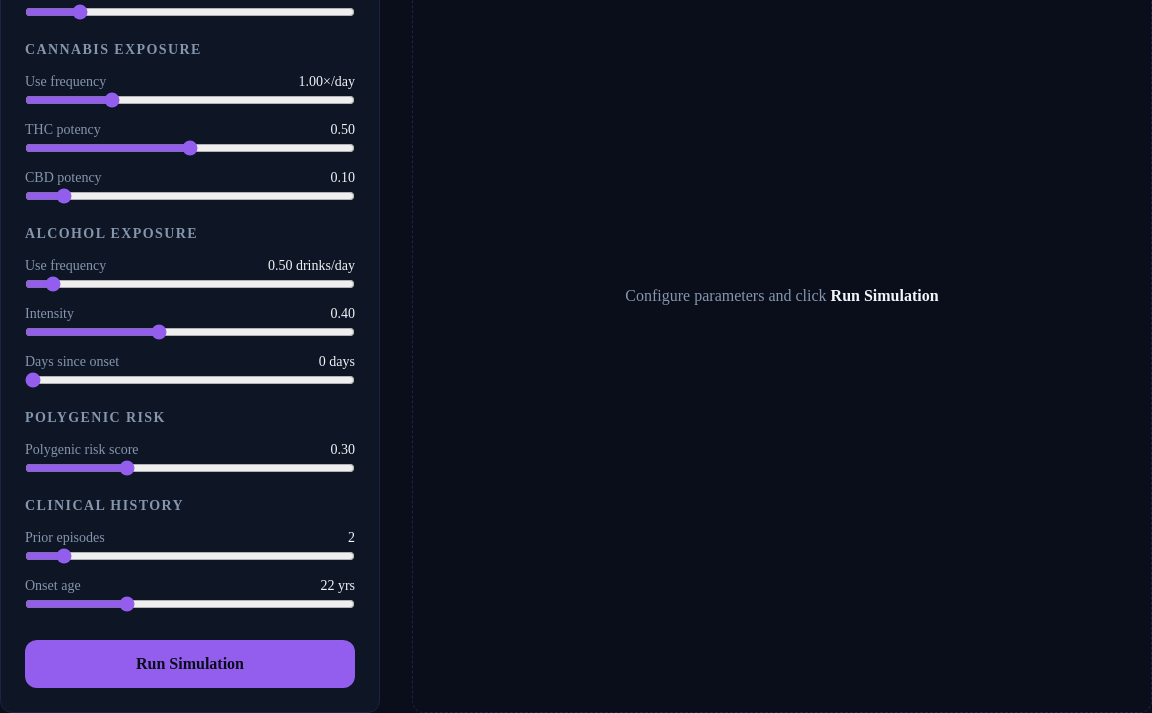
Scenario: SimulatorClient › shows 'Simulating…' immediately after clicking Run
(page scrolled)
Step 1. Click the button "Run Simulation" → (190, 664), box [25,640,355,688]
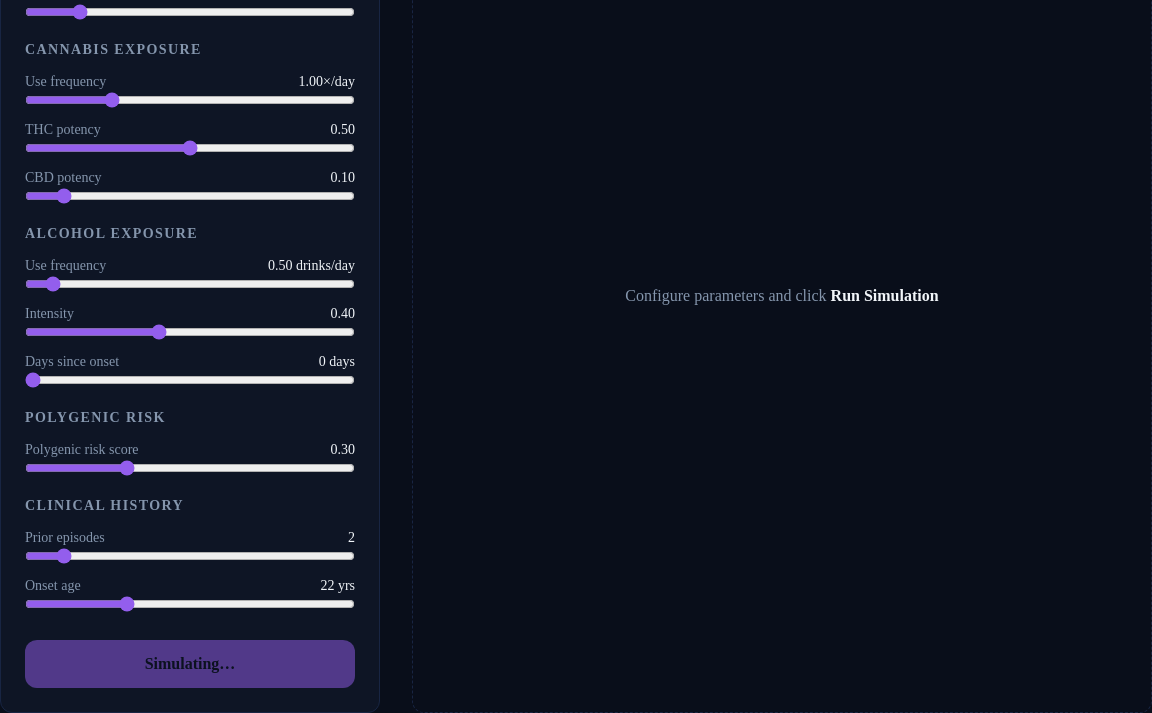
Check: the button "Simulating…" is shown, box [25,640,355,688]
